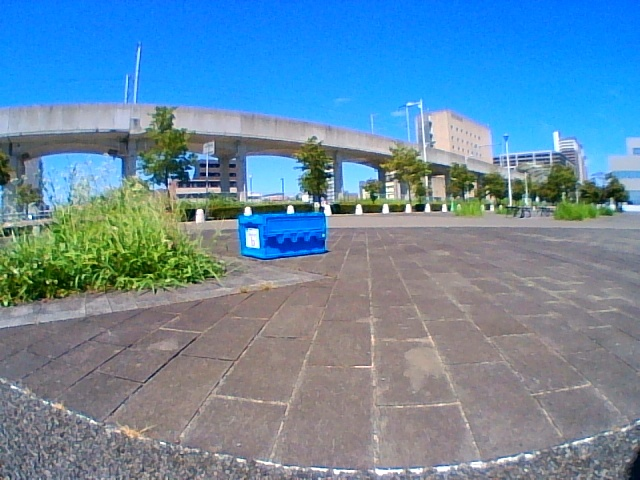blue_box: (239, 212, 328, 259)
tag_b: (246, 229, 259, 247)
